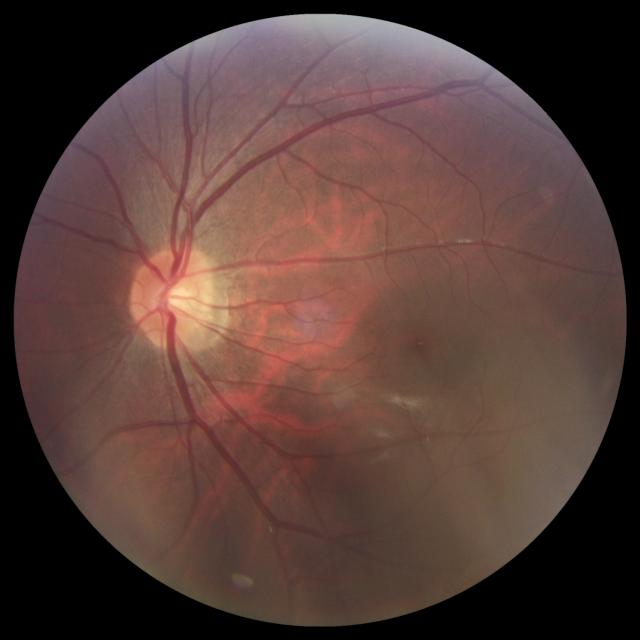OC: (158, 281, 192, 316)
OD: (130, 245, 214, 346)
